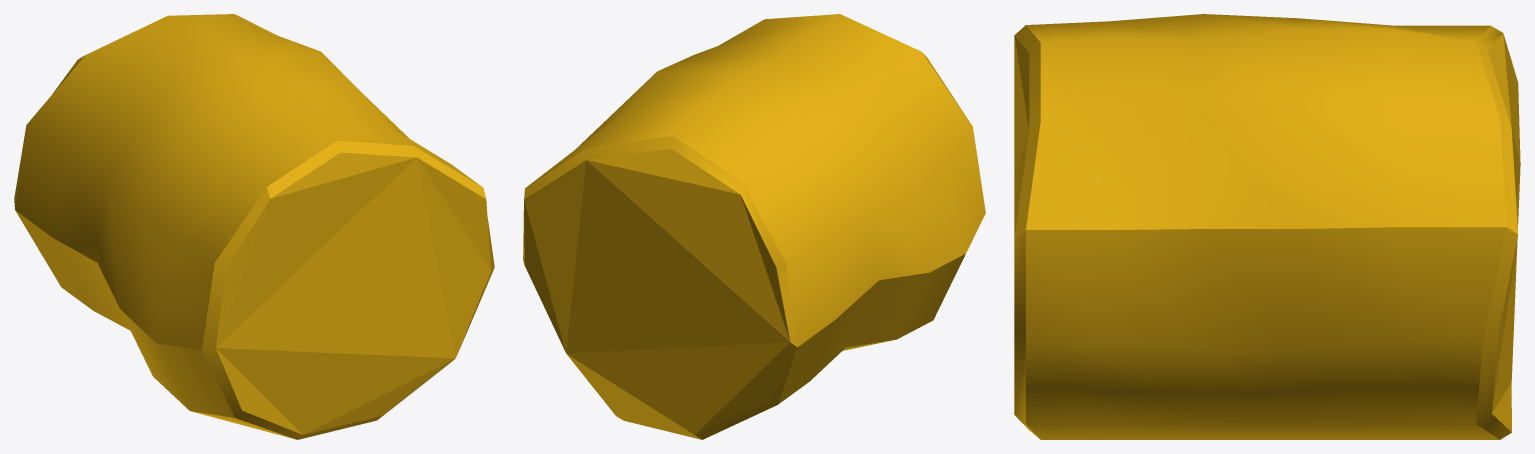
File: Botte de foin#1.FBX
The picture shows the model from 3 angles, left to right: view 1: azimuth 30°, elevation 25°; view 2: azimuth 150°, elevation 25°; view 3: azimuth 270°, elevation 25°; orthographic projection. The views are drawn at different scales.
Visible parts, largest first — view 1: Cylinder001; view 2: Cylinder001; view 3: Cylinder001.
Part boxes in pixels (x1,y1,x2,y2): Cylinder001: [14, 14, 494, 439]; Cylinder001: [523, 14, 985, 439]; Cylinder001: [1014, 14, 1520, 439].
Size of the model in its own units: 54.84 by 51.38 by 61.2.
